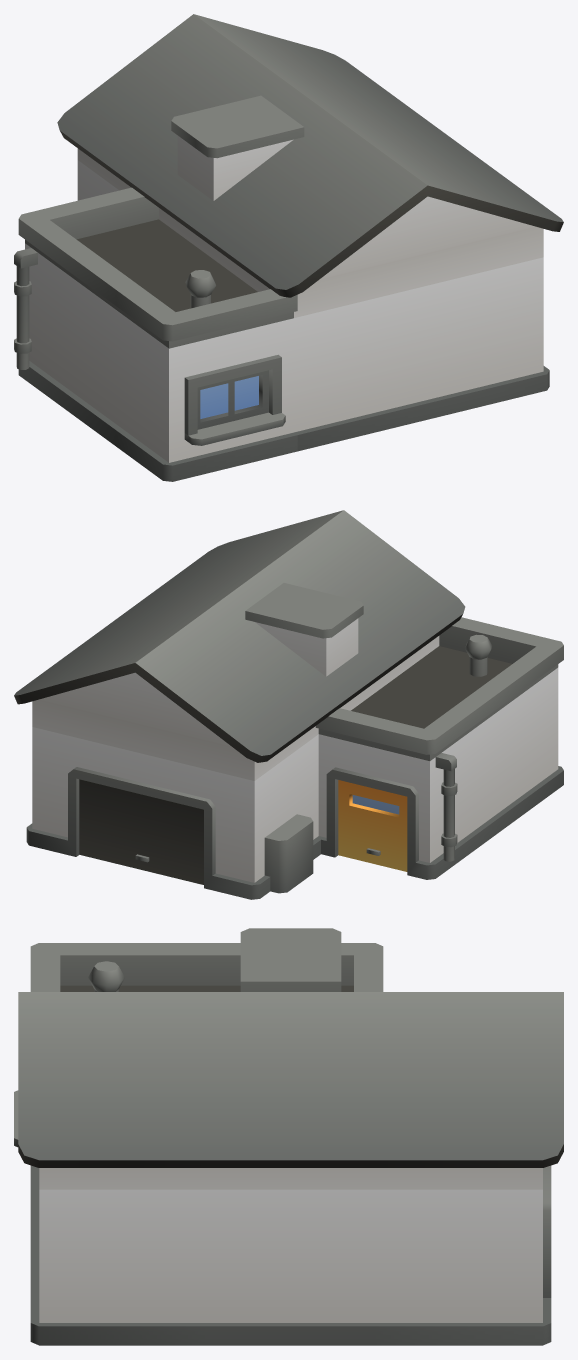
File: ind-building-h.glb
3 renders of one model, top to bottom at view 1: azimuth 30°, elevation 25°; view 2: azimuth 150°, elevation 25°; view 3: azimuth 270°, elevation 25°, orthographic. The views are drawn at different scales.
Parts seen in each view (by area): view 1: building-h; view 2: building-h; view 3: building-h.
Part boxes in pixels (x1=…): building-h: x1=14, y1=14, x2=563, y2=481; building-h: x1=14, y1=510, x2=563, y2=899; building-h: x1=14, y1=928, x2=563, y2=1345.
Size of the model in its own units: 1.32 by 0.7336 by 1.31.
Materials: 1 (1 with a texture image).
